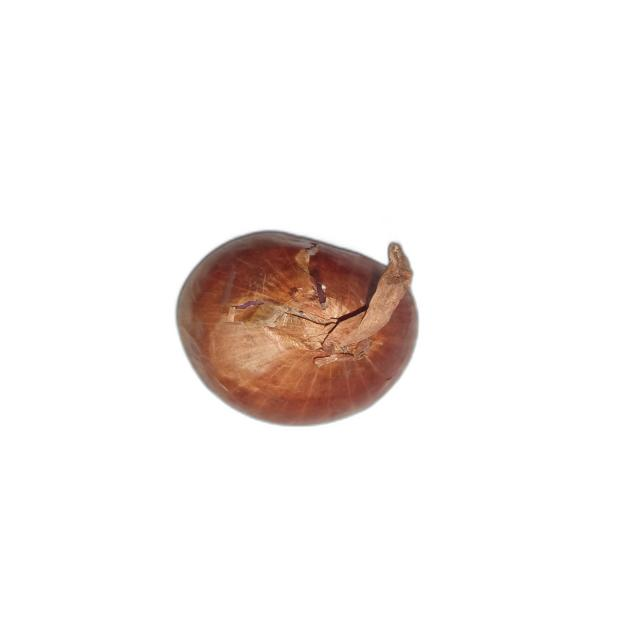onion: (173, 230, 421, 428)
